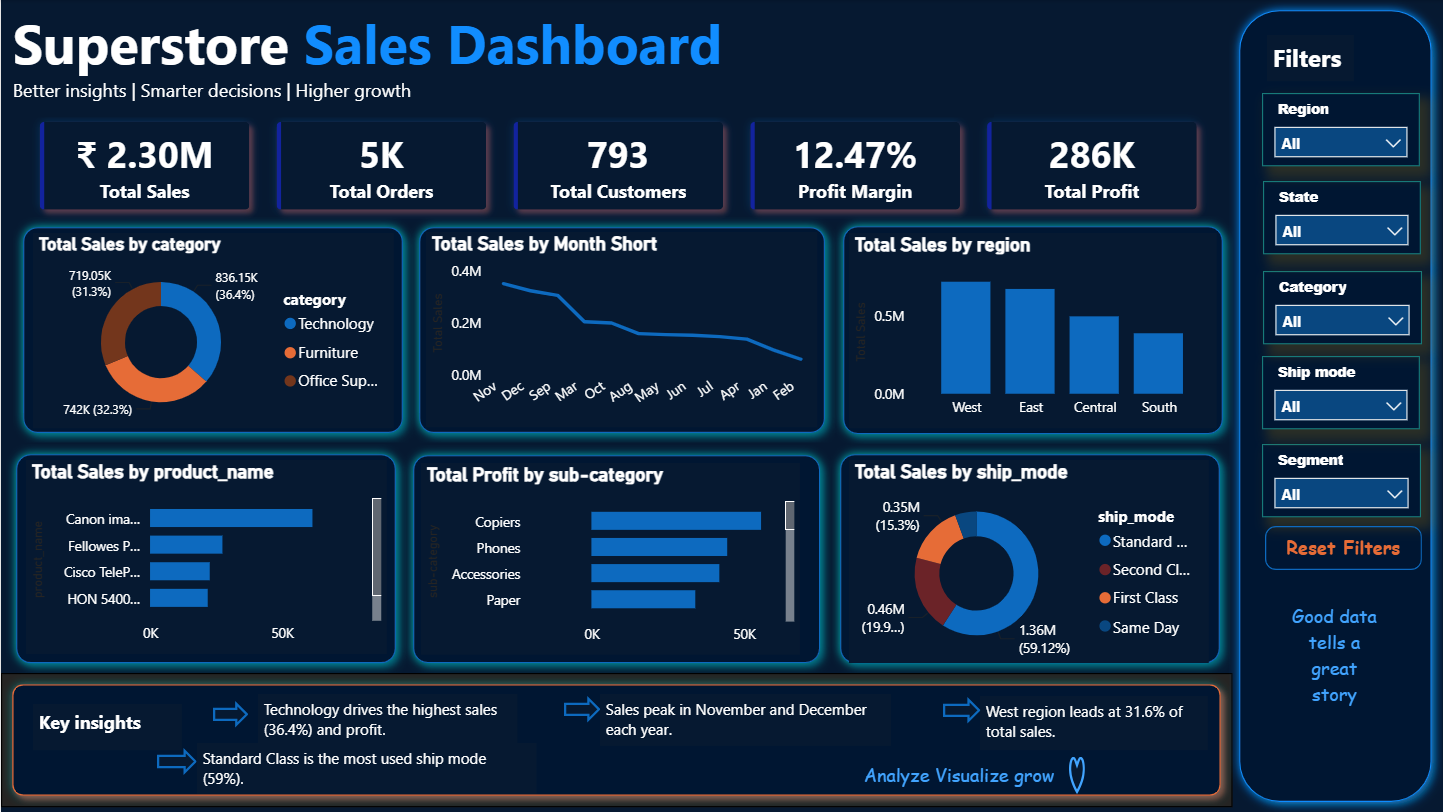

The page's visual inventory and layout, read from the dashboard file:
{"tool":"powerbi","page":{"name":"Page 1","canvas":[1280,720],"ordinal":0},"visuals":[{"type":"shape","box":[0,596.7,1091.5,118.8],"z":0},{"type":"cardVisual","fields":{"Data":["sample_superstore.Total Sales","sample_superstore.Total Orders","sample_superstore.Total Customers","sample_superstore.Profit Margin","sample_superstore.Total Profit"]},"box":[4.9,78.6,1085.5,136.5],"z":1000},{"type":"textbox","box":[4.9,0,875.3,104.1],"z":2000},{"type":"shape","box":[1088.4,0,188.6,720.1],"z":3000},{"type":"shape","box":[735.4,393.3,354.7,203.4],"z":4000},{"type":"shape","box":[356.6,394.2,378.8,202.4],"z":5000},{"type":"shape","box":[4.8,393.3,354.7,203.4],"z":6000},{"type":"shape","box":[361.4,192.8,377.8,200.5],"z":7000},{"type":"shape","box":[10.6,192.8,354.7,200.5],"z":8000},{"type":"donutChart","fields":{"Category":["sample_superstore.category"],"Y":["sample_superstore.Total Sales"]},"box":[28,206.3,320,173.5],"z":9000},{"type":"lineChart","fields":{"Y":["sample_superstore.Total Sales"],"Category":["sample_superstore.Month Short"]},"box":[376.9,205.3,347,173.5],"z":10000},{"type":"barChart","fields":{"Category":["sample_superstore.product_name"],"Y":["sample_superstore.Total Sales"]},"box":[22.2,407.7,320,171.6],"z":11000},{"type":"clusteredBarChart","fields":{"Category":["sample_superstore.sub-category"],"Y":["sample_superstore.Total Profit"]},"box":[372,410.6,336.4,169.6],"z":12000},{"type":"donutChart","fields":{"Category":["sample_superstore.ship_mode"],"Y":["sample_superstore.Total Sales"]},"box":[751.8,407.7,319,180.2],"z":13000},{"type":"shape","box":[737.3,191.8,354.7,202.4],"z":14000},{"type":"columnChart","fields":{"Category":["sample_superstore.region"],"Y":["sample_superstore.Total Sales"]},"box":[751.8,206.3,325.8,172.5],"z":15000},{"type":"slicer","fields":{"Values":["sample_superstore.region"]},"box":[1118.1,82.5,140.1,64.7],"z":16000},{"type":"slicer","fields":{"Values":["sample_superstore.segment"]},"box":[1117.9,393.9,141.5,64.8],"z":17000},{"type":"slicer","fields":{"Values":["sample_superstore.category"]},"box":[1118.9,240.7,141.5,64.8],"z":18000},{"type":"slicer","fields":{"Values":["sample_superstore.ship_mode"]},"box":[1117.9,315.3,140.5,64.8],"z":19000},{"type":"slicer","fields":{"Values":["sample_superstore.state"]},"box":[1118.9,160.1,140.5,64.8],"z":20000},{"type":"textbox","box":[1122.8,31.4,76.6,41.3],"z":21000},{"type":"textbox","box":[28.4,624.2,132.1,40.8],"z":22000},{"type":"textbox","box":[227.9,615,229.9,46.2],"z":23000},{"type":"textbox","box":[531.5,615,258.4,46.2],"z":24000},{"type":"textbox","box":[868.4,616.9,202.4,48.1],"z":25000},{"type":"textbox","box":[173.8,658.8,300.6,45.2],"z":26000},{"type":"actionButton","box":[1120.8,466.4,139.2,39],"z":27000},{"type":"shape","box":[835,617.9,33.4,23.6],"z":29000},{"type":"shape","box":[187.6,621.8,31.4,23.6],"z":30000},{"type":"shape","box":[138.3,663.3,35.5,23.9],"z":31000},{"type":"shape","box":[499,616.9,32.4,23.6],"z":32000},{"type":"actionButton","box":[1137.6,520.6,89.4,120.8],"z":33000},{"type":"actionButton","box":[751.9,671.2,195.1,30.1],"z":34000},{"type":"shape","box":[947,671.2,14.2,32.8],"z":35001}]}

Visuals, with their boxes in screenshot pixels (x1, y1, x2, y2), scaled from the page's 1280x720 canvas onto the 1443x812 screenshot:
shape: 0/673/1230/807
cardVisual - sample_superstore.Total Sales x sample_superstore.Total Orders: 6/89/1229/243
textbox: 6/0/992/117
shape: 1227/0/1440/811
shape: 829/444/1229/673
shape: 402/445/829/673
shape: 5/444/405/673
shape: 407/217/833/444
shape: 12/217/412/444
donutChart - sample_superstore.category x sample_superstore.Total Sales: 32/233/392/428
lineChart - sample_superstore.Total Sales x sample_superstore.Month Short: 425/232/816/427
barChart - sample_superstore.product_name x sample_superstore.Total Sales: 25/460/386/653
clusteredBarChart - sample_superstore.sub-category x sample_superstore.Total Profit: 419/463/799/654
donutChart - sample_superstore.ship_mode x sample_superstore.Total Sales: 848/460/1207/663
shape: 831/216/1231/445
columnChart - sample_superstore.region x sample_superstore.Total Sales: 848/233/1215/427
slicer - sample_superstore.region: 1260/93/1418/166
slicer - sample_superstore.segment: 1260/444/1420/517
slicer - sample_superstore.category: 1261/271/1421/345
slicer - sample_superstore.ship_mode: 1260/356/1419/429
slicer - sample_superstore.state: 1261/181/1420/254
textbox: 1266/35/1352/82
textbox: 32/704/181/750
textbox: 257/694/516/746
textbox: 599/694/890/746
textbox: 979/696/1207/750
textbox: 196/743/535/794
actionButton: 1264/526/1420/570
shape: 941/697/979/723
shape: 211/701/247/728
shape: 156/748/196/775
shape: 563/696/599/722
actionButton: 1282/587/1383/723
actionButton: 848/757/1068/791
shape: 1068/757/1084/794
